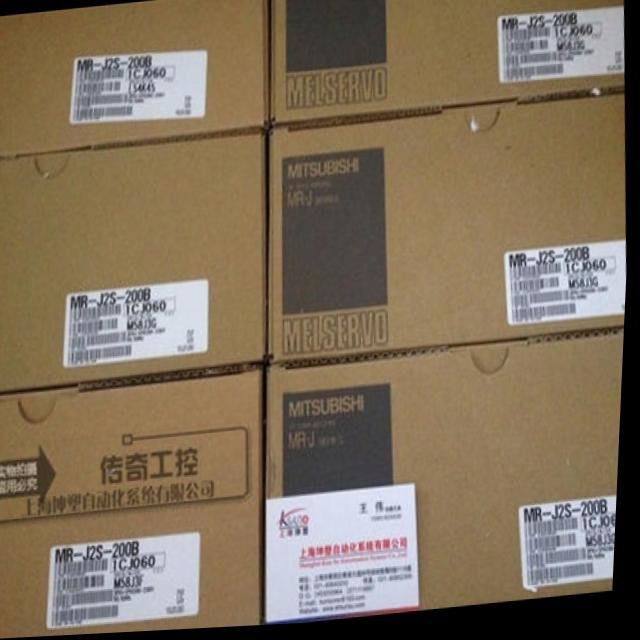box: (270, 333, 627, 628), (269, 95, 629, 373), (0, 130, 269, 395), (0, 377, 270, 639), (269, 0, 626, 130)
